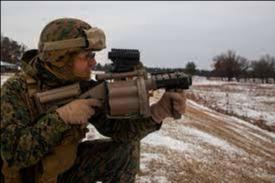gun: (36, 46, 191, 136)
